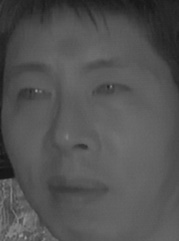eye: (89, 78, 133, 101), (13, 84, 52, 107)
mouth: (45, 169, 115, 211)
